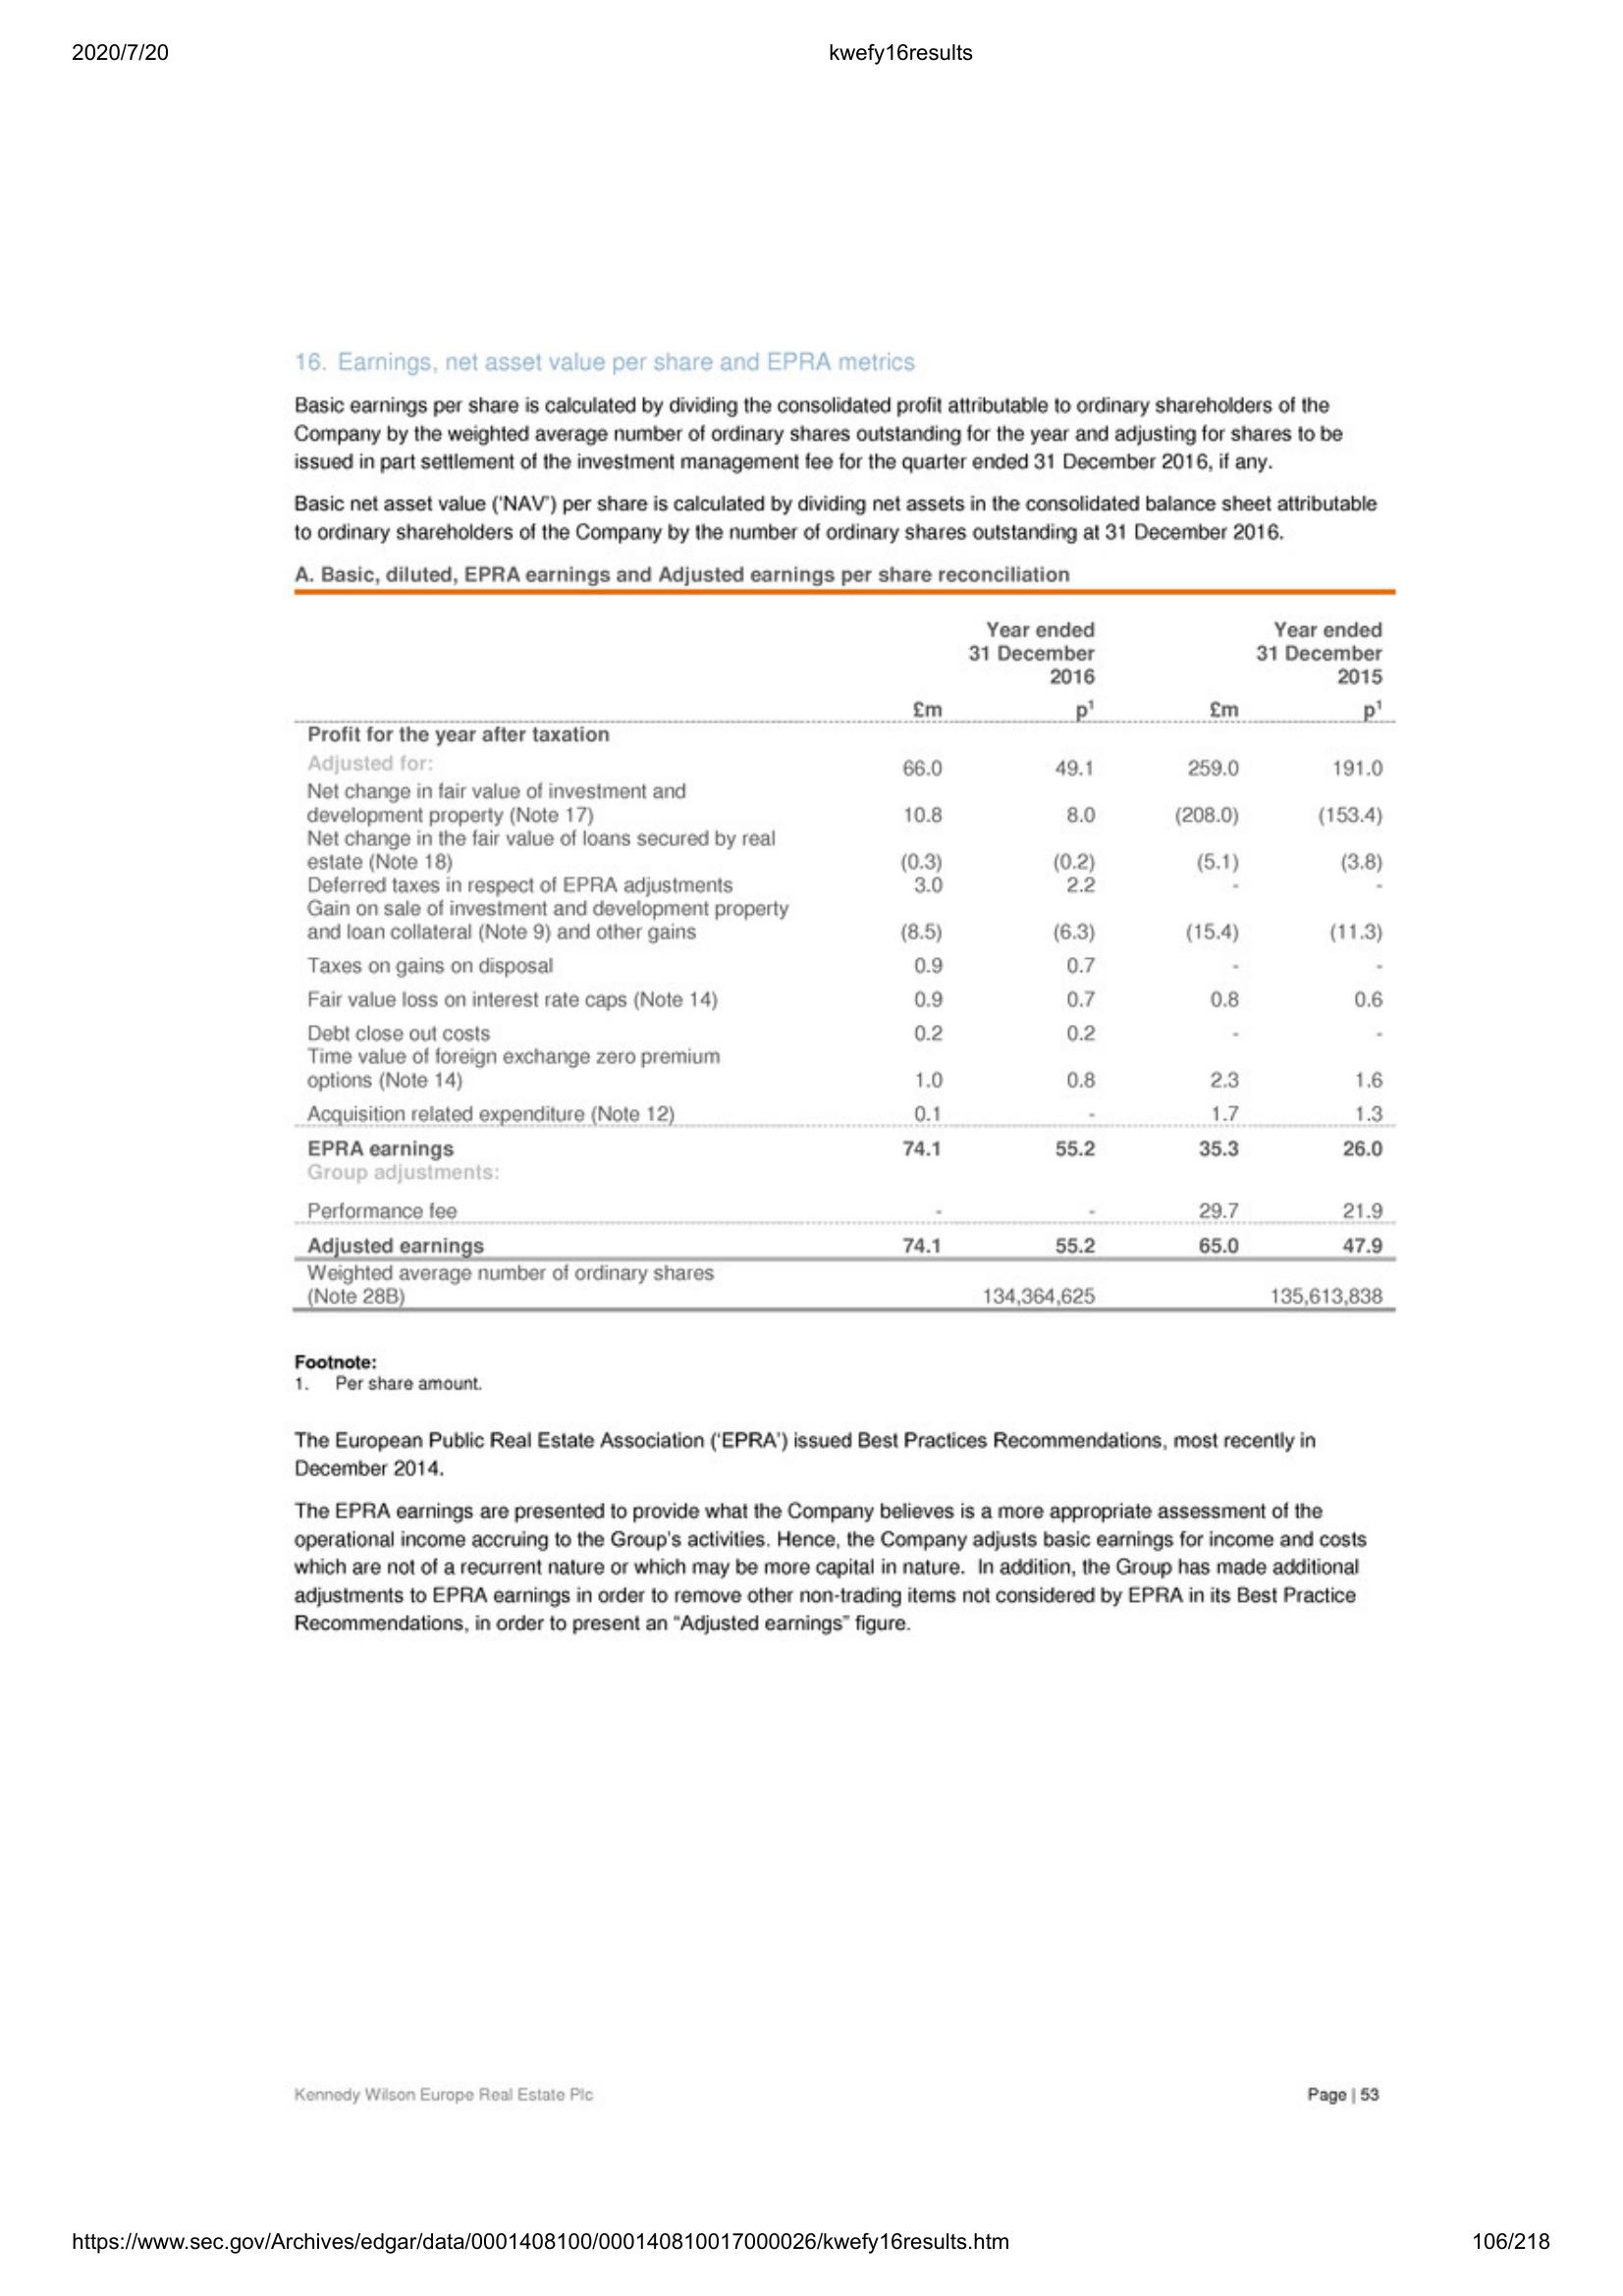table: (286, 585, 1405, 1315)
